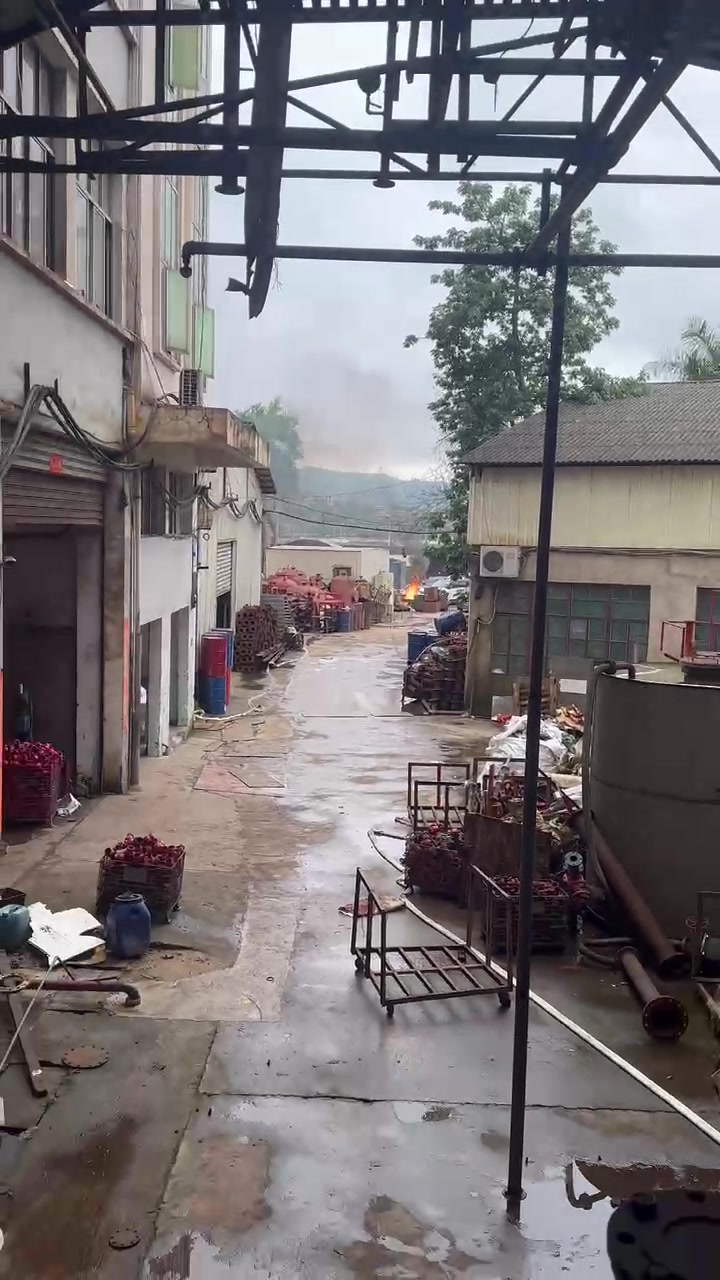fire: (404, 583, 417, 599)
